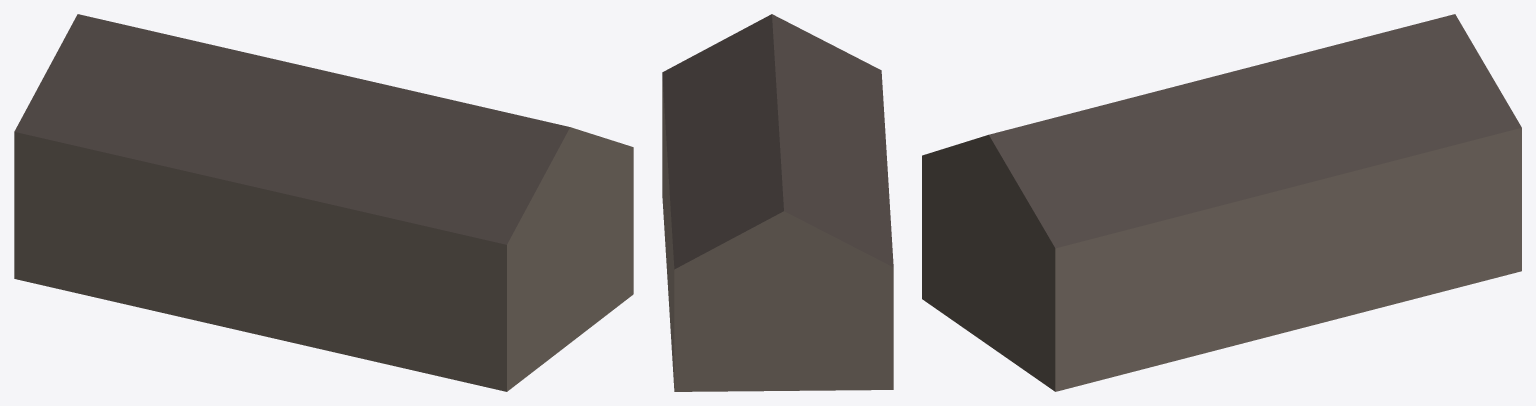
3 renders of one model, left to right at view 1: azimuth 30°, elevation 25°; view 2: azimuth 150°, elevation 25°; view 3: azimuth 270°, elevation 25°, orthographic. The views are drawn at different scales.
Visible parts, largest first — view 1: HP-w369237985; view 2: HP-w369237985; view 3: HP-w369237985.
Boxes of the visible parts, left/top/right/bottom form: HP-w369237985: left=14, top=14, right=633, bottom=391; HP-w369237985: left=662, top=14, right=893, bottom=391; HP-w369237985: left=922, top=14, right=1521, bottom=391.
Size of the model in its own units: 19.15 by 8.81 by 22.73.
